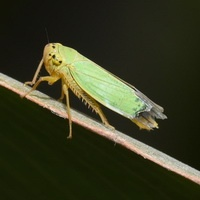insect: (23, 43, 166, 138)
